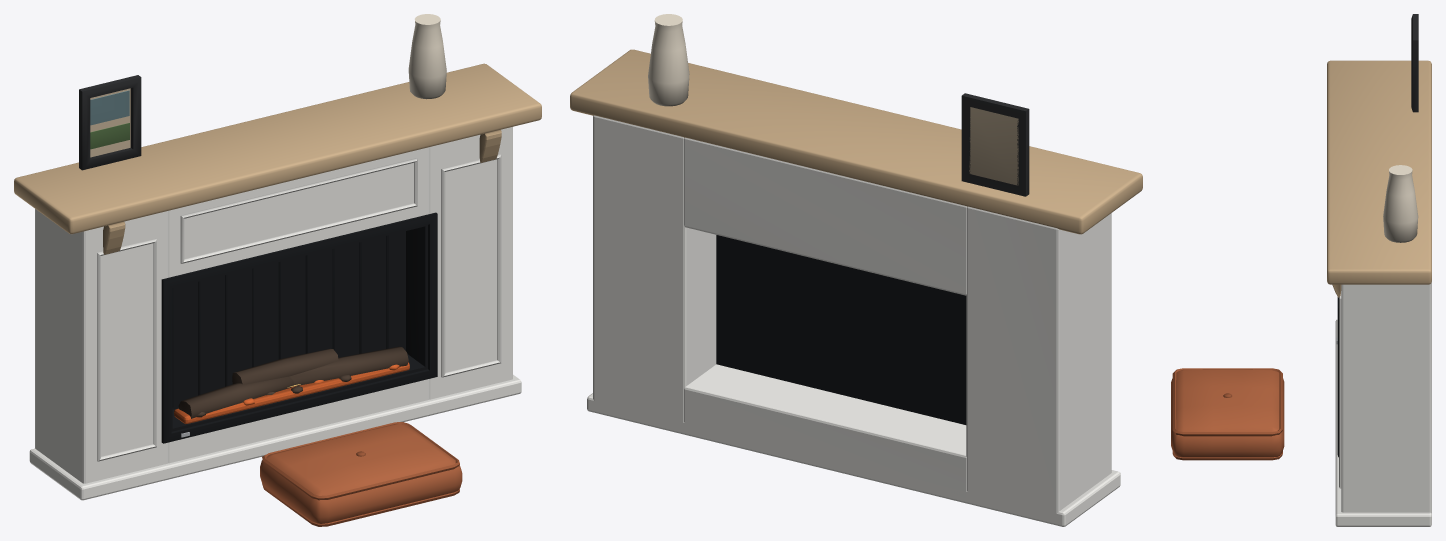
Rendered from fireplaceElectric.glb.
The picture shows the model from 3 angles, left to right: view 1: azimuth 30°, elevation 25°; view 2: azimuth 150°, elevation 25°; view 3: azimuth 270°, elevation 25°; orthographic projection. The views are drawn at different scales.
Visible parts, largest first — view 1: fireplaceElectric; view 2: fireplaceElectric; view 3: fireplaceElectric.
Boxes of the visible parts, left/top/right/bottom form: fireplaceElectric: left=14, top=14, right=541, bottom=526; fireplaceElectric: left=570, top=14, right=1142, bottom=526; fireplaceElectric: left=1171, top=14, right=1431, bottom=526.
Size of the model in its own units: 1.76 by 1.32 by 0.92.
